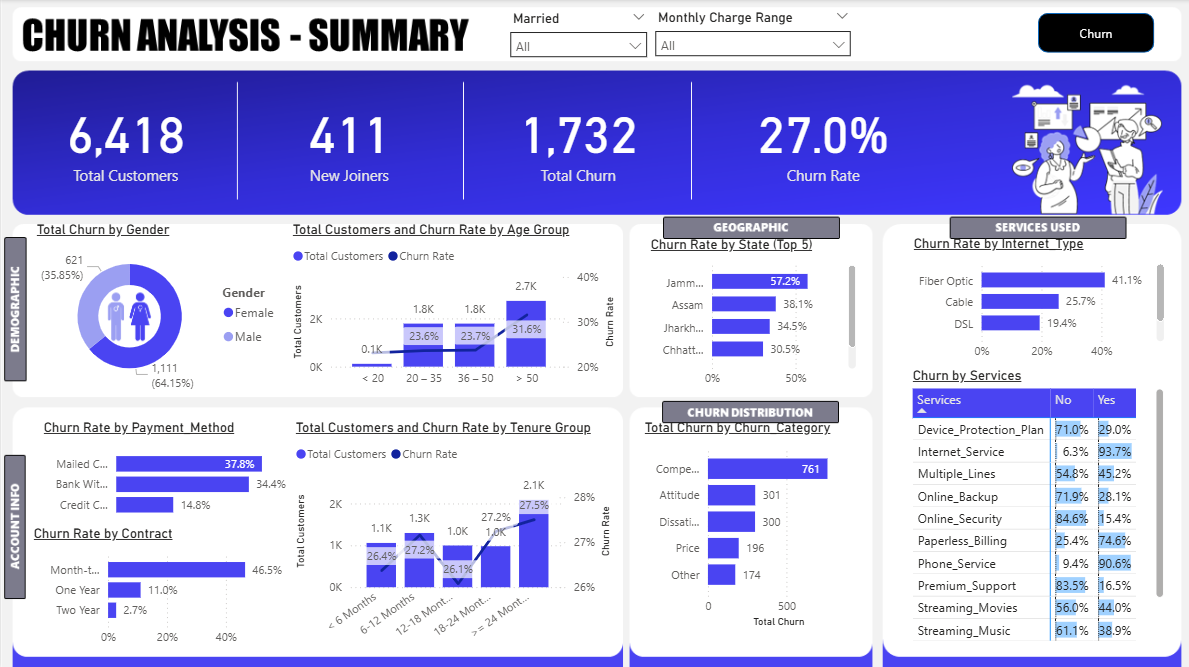

Layout of this report page (visuals, bound fields, positions):
{"tool":"powerbi","page":{"name":"summary","canvas":[1280,720],"ordinal":0},"visuals":[{"type":"image","box":[94.2,302.3,86,76.7],"z":0},{"type":"card","fields":{"Values":["tbl_Measures.Total Customers"]},"box":[13.7,97.4,240.1,105.7],"z":1000},{"type":"card","fields":{"Values":["tbl_Measures.Churn Rate"]},"box":[743.7,97.4,279.9,105.7],"z":2000},{"type":"card","fields":{"Values":["tbl_Measures.Total Churn"]},"box":[499.5,97.4,241.5,105.7],"z":3000},{"type":"card","fields":{"Values":["tbl_Measures.New Joiners"]},"box":[253.9,97.4,241.5,105.7],"z":4000},{"type":"donutChart","fields":{"Category":["prod_Churn.Gender"],"Y":["tbl_Measures.Total Churn"]},"box":[32.9,240.1,275.8,185.2],"z":5000},{"type":"lineStackedColumnComboChart","fields":{"Category":["mapping_AgeGrp.Age Group "],"Y":["tbl_Measures.Total Customers"],"Y2":["tbl_Measures.Churn Rate"]},"box":[308.7,240.1,356.8,185.2],"z":6000},{"type":"clusteredBarChart","fields":{"Category":["prod_Churn.Payment_Method"],"Y":["tbl_Measures.Churn Rate"]},"box":[40.7,452.3,279.1,114],"z":7000},{"type":"clusteredBarChart","fields":{"Category":["prod_Churn.Contract"],"Y":["tbl_Measures.Churn Rate"]},"box":[30.2,566.3,289.5,137.2],"z":8000},{"type":"lineStackedColumnComboChart","fields":{"Category":["mapping_Tenure.Tenure Group"],"Y":["tbl_Measures.Total Customers"],"Y2":["tbl_Measures.Churn Rate"]},"box":[311.6,452.3,350,246.5],"z":9000},{"type":"clusteredBarChart","title":"Churn Rate by State (Top 5)","fields":{"Category":["prod_Churn.State"],"Y":["tbl_Measures.Churn Rate"]},"box":[693,255.2,230.5,170.2],"z":10000},{"type":"clusteredBarChart","fields":{"Category":["prod_Churn.Churn_Category"],"Y":["tbl_Measures.Total Churn"]},"box":[687.2,452.3,240.7,227.9],"z":11000},{"type":"clusteredBarChart","fields":{"Category":["prod_Churn.Internet_Type"],"Y":["tbl_Measures.Churn Rate"]},"box":[975.6,254.7,279.1,141.9],"z":12000},{"type":"pivotTable","title":"Churn by Services","fields":{"Rows":["prod_Services.Services"],"Columns":["prod_Services.Status"],"Values":["Sum(prod_Services.Churn Status)"]},"box":[974.4,396.5,280.2,297.7],"z":13000},{"type":"slicer","fields":{"Values":["prod_Churn.Monthly Charge Status"]},"box":[693,6.9,179.8,60.4],"z":14000},{"type":"slicer","fields":{"Values":["prod_Churn.Married"]},"box":[525.6,11,167.4,56.3],"z":15000},{"type":"shape","box":[1114.2,15.1,124.9,42.5],"z":15001}]}

Visuals, with their boxes in screenshot pixels (x1, y1, x2, y2), scaled from the page's 1280x720 canvas onto the 1189x667 screenshot:
image: Rect(88, 280, 167, 351)
card - tbl_Measures.Total Customers: Rect(13, 90, 236, 188)
card - tbl_Measures.Churn Rate: Rect(691, 90, 951, 188)
card - tbl_Measures.Total Churn: Rect(464, 90, 688, 188)
card - tbl_Measures.New Joiners: Rect(236, 90, 460, 188)
donutChart - prod_Churn.Gender x tbl_Measures.Total Churn: Rect(31, 222, 287, 394)
lineStackedColumnComboChart - mapping_AgeGrp.Age Group  x tbl_Measures.Total Customers: Rect(287, 222, 618, 394)
clusteredBarChart - prod_Churn.Payment_Method x tbl_Measures.Churn Rate: Rect(38, 419, 297, 525)
clusteredBarChart - prod_Churn.Contract x tbl_Measures.Churn Rate: Rect(28, 525, 297, 652)
lineStackedColumnComboChart - mapping_Tenure.Tenure Group x tbl_Measures.Total Customers: Rect(289, 419, 615, 647)
"Churn Rate by State (Top 5)" clusteredBarChart: Rect(644, 236, 858, 394)
clusteredBarChart - prod_Churn.Churn_Category x tbl_Measures.Total Churn: Rect(638, 419, 862, 630)
clusteredBarChart - prod_Churn.Internet_Type x tbl_Measures.Churn Rate: Rect(906, 236, 1165, 367)
"Churn by Services" pivotTable: Rect(905, 367, 1165, 643)
slicer - prod_Churn.Monthly Charge Status: Rect(644, 6, 811, 62)
slicer - prod_Churn.Married: Rect(488, 10, 644, 62)
shape: Rect(1035, 14, 1151, 53)
